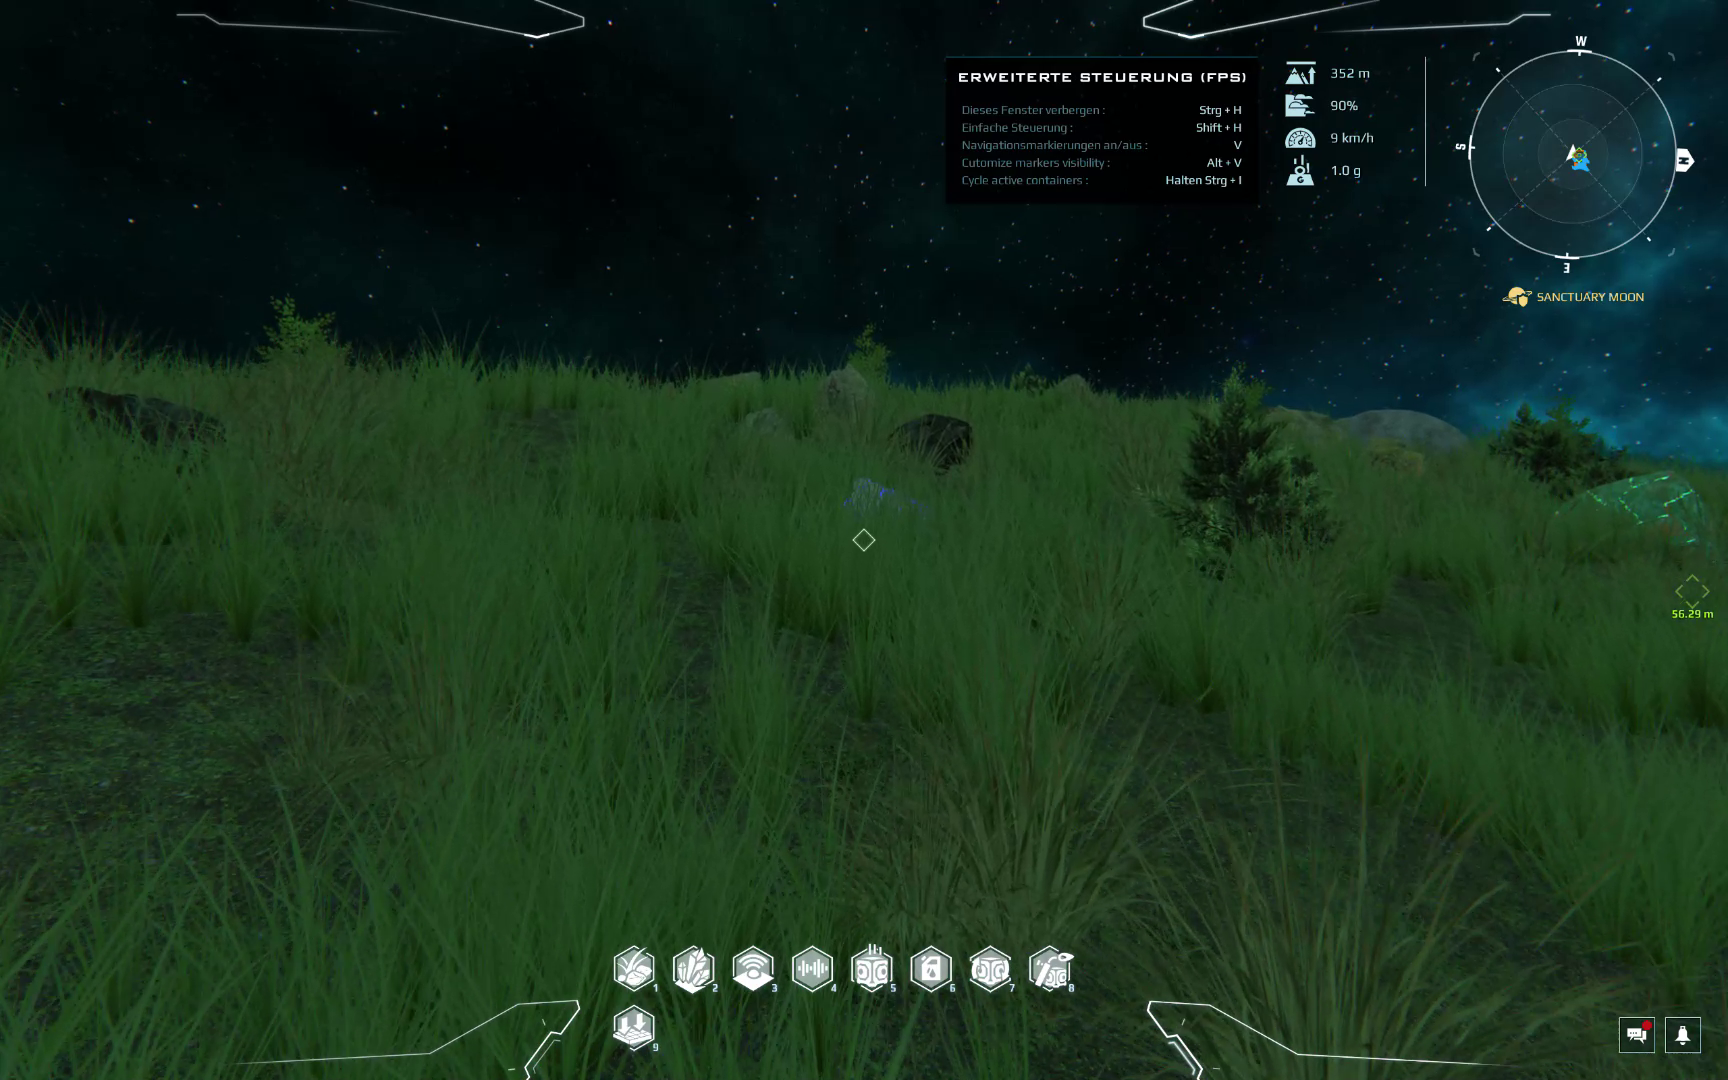Ore: (1541, 467, 1721, 576), (40, 375, 230, 472), (885, 413, 975, 478), (814, 367, 872, 448), (1357, 435, 1429, 493), (836, 474, 906, 526), (741, 408, 802, 459)
